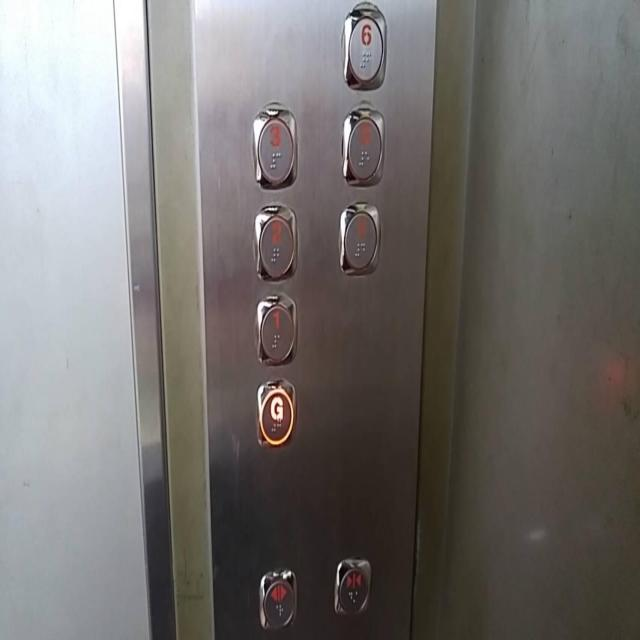1: (253, 293, 300, 366)
2: (252, 204, 297, 280)
3: (252, 99, 298, 191)
4: (338, 199, 381, 275)
5: (342, 102, 385, 189)
6: (341, 1, 387, 92)
G: (253, 376, 296, 448)
close: (334, 558, 371, 618)
open: (258, 566, 297, 632)
